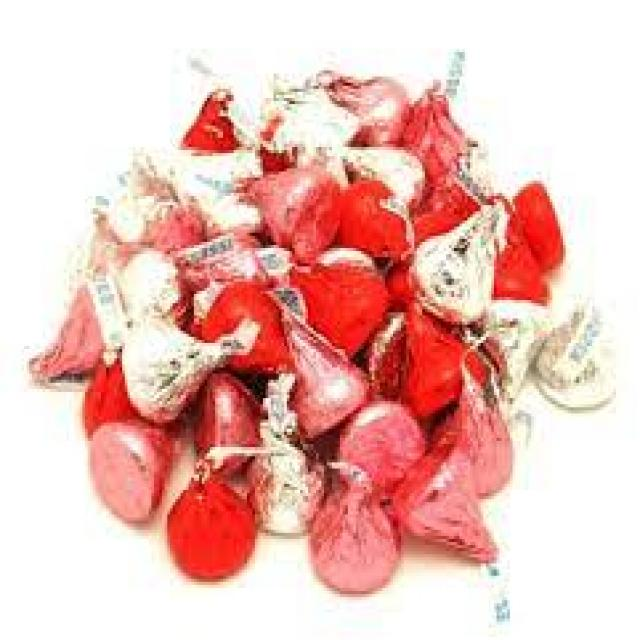kisses: (124, 302, 240, 433), (152, 147, 271, 238), (332, 138, 439, 235), (418, 203, 503, 325), (246, 432, 324, 541), (536, 306, 607, 402)
